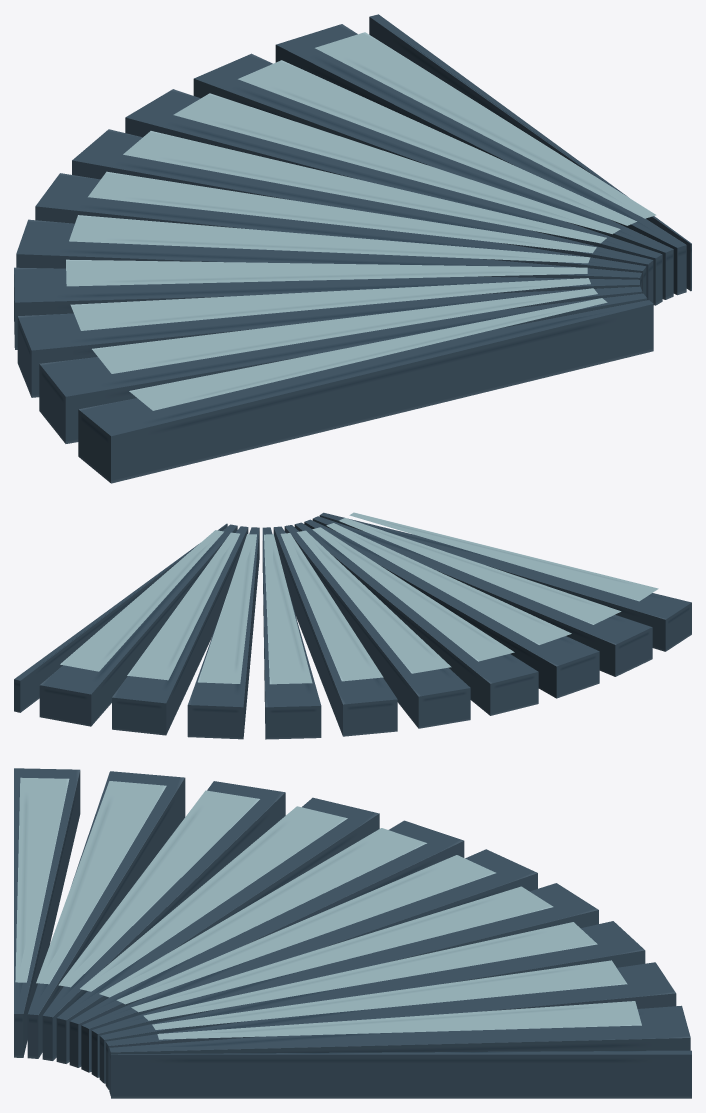
Rendered from sc_tread_curve_right_9.obj.
The picture shows the model from 3 angles, top to bottom: view 1: azimuth 30°, elevation 25°; view 2: azimuth 150°, elevation 25°; view 3: azimuth 270°, elevation 25°; orthographic projection. The views are drawn at different scales.
Bounding box in the file's own units: 17.5 × 1.56 × 17.5.
1 material, 1 textured.
